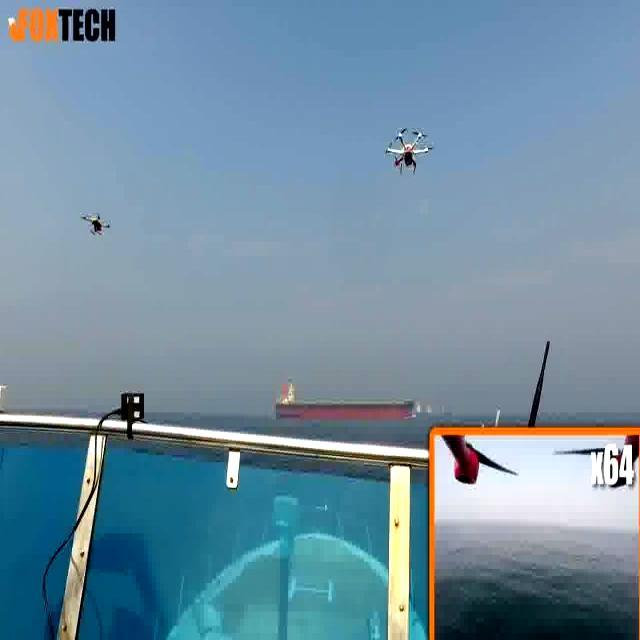drone: (384, 123, 436, 177), (81, 210, 111, 238)
